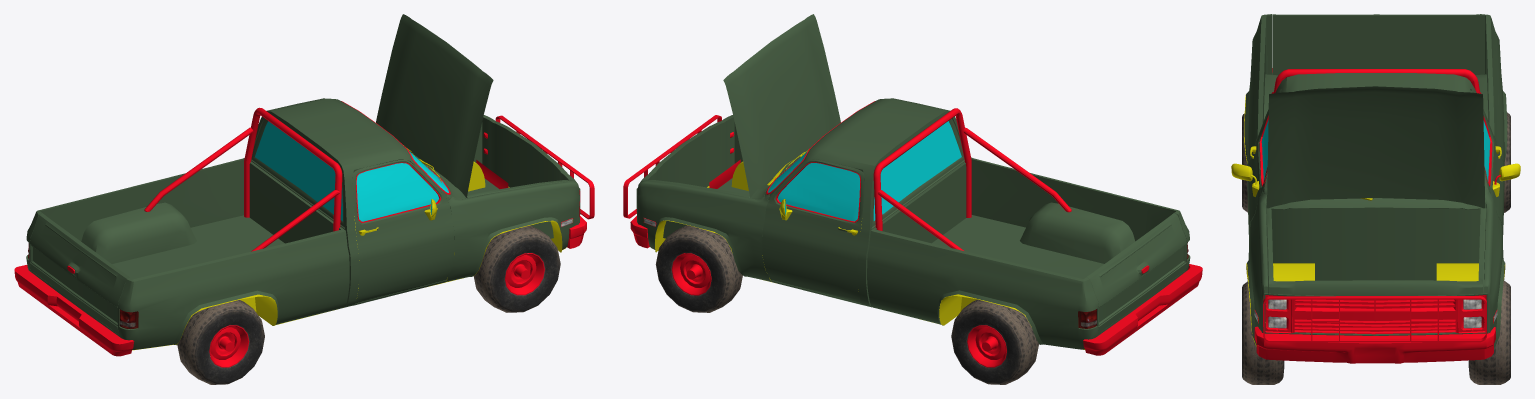
The model's file is M1008Opened.fbx.
The picture shows the model from 3 angles, left to right: view 1: azimuth 30°, elevation 25°; view 2: azimuth 150°, elevation 25°; view 3: azimuth 270°, elevation 25°; orthographic projection. The views are drawn at different scales.
Parts seen in each view (by area): view 1: M1008_LOD0; view 2: M1008_LOD0; view 3: M1008_LOD0.
Part boxes in pixels (bbox=[...]): M1008_LOD0: bbox=[14, 14, 594, 384]; M1008_LOD0: bbox=[623, 14, 1202, 384]; M1008_LOD0: bbox=[1231, 14, 1520, 384].
Size of the model in its own units: 174 by 186 by 397.
